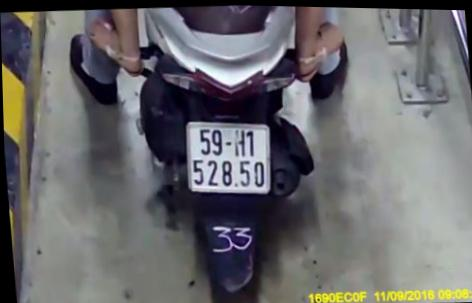LP: (181, 115, 275, 198)
